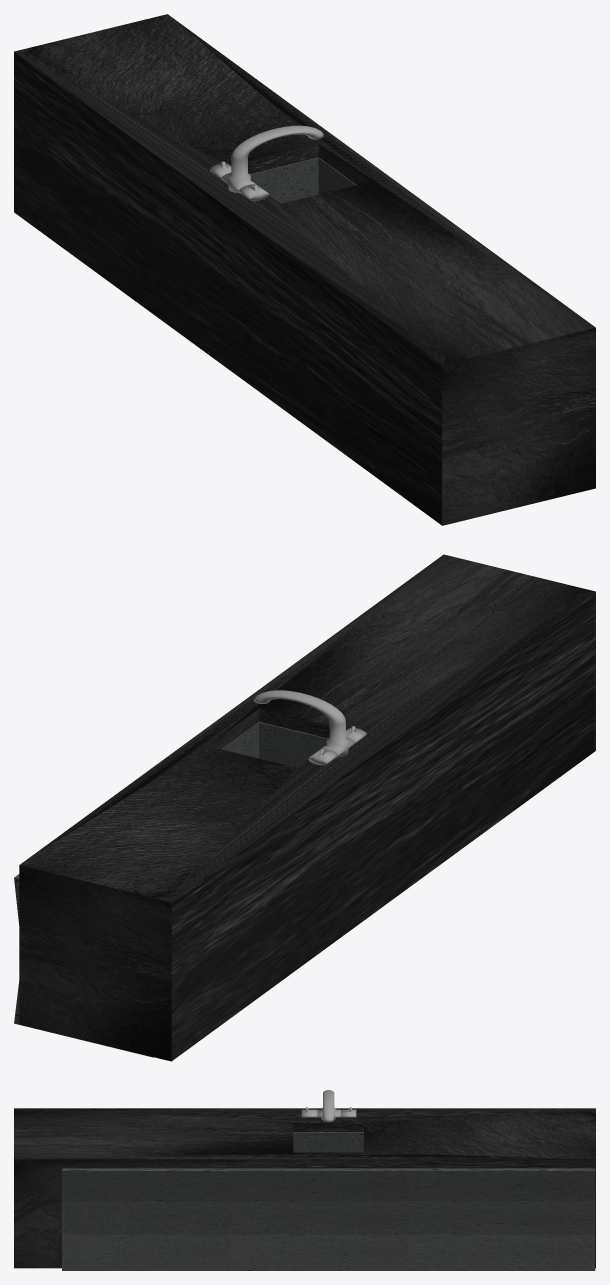
Rendered from aanrecht.fbx.
The picture shows the model from 3 angles, top to bottom: view 1: azimuth 30°, elevation 25°; view 2: azimuth 150°, elevation 25°; view 3: azimuth 270°, elevation 25°; orthographic projection. The views are drawn at different scales.
Parts seen in each view (by area): view 1: Cube.001, Cube, Cylinder; view 2: Cube.001, Cube, Cylinder; view 3: Cube, Cube.001, Cylinder.
Part boxes in pixels (left/top/right/bottom): Cube.001: left=14, top=14, right=595, bottom=525; Cube: left=250, top=157, right=356, bottom=203; Cylinder: left=210, top=125, right=324, bottom=201; Cube.001: left=19, top=554, right=595, bottom=1061; Cube: left=14, top=722, right=327, bottom=1057; Cylinder: left=254, top=690, right=366, bottom=765; Cube: left=62, top=1132, right=595, bottom=1270; Cube.001: left=14, top=1108, right=595, bottom=1268; Cylinder: left=301, top=1090, right=356, bottom=1122.
Bounding box in the file's own units: 227 × 286 × 1054.
